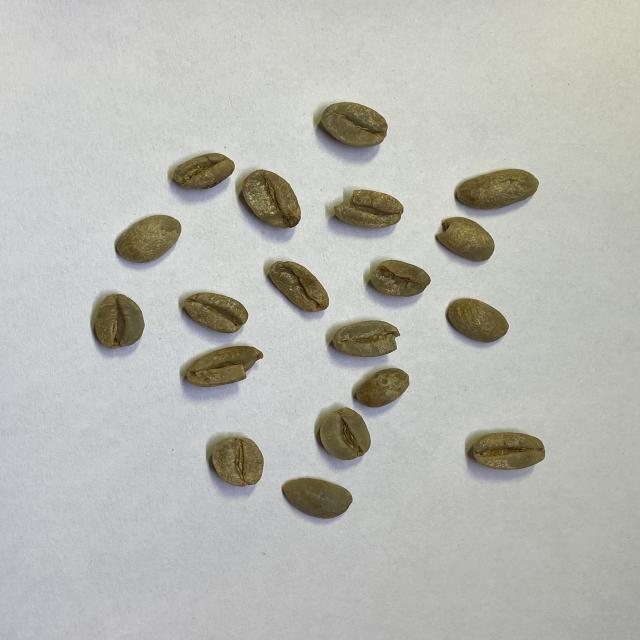bad: (266, 259, 330, 314), (180, 344, 263, 386), (334, 188, 404, 230), (434, 218, 496, 265), (330, 319, 401, 357), (367, 260, 432, 298)
good: (240, 168, 303, 230), (455, 166, 538, 208), (113, 214, 182, 264), (468, 430, 546, 472), (320, 101, 388, 149), (282, 476, 354, 520), (445, 298, 511, 345), (93, 293, 148, 349), (210, 433, 264, 488), (317, 408, 373, 460), (184, 292, 249, 334), (171, 151, 235, 190), (353, 366, 410, 408)
